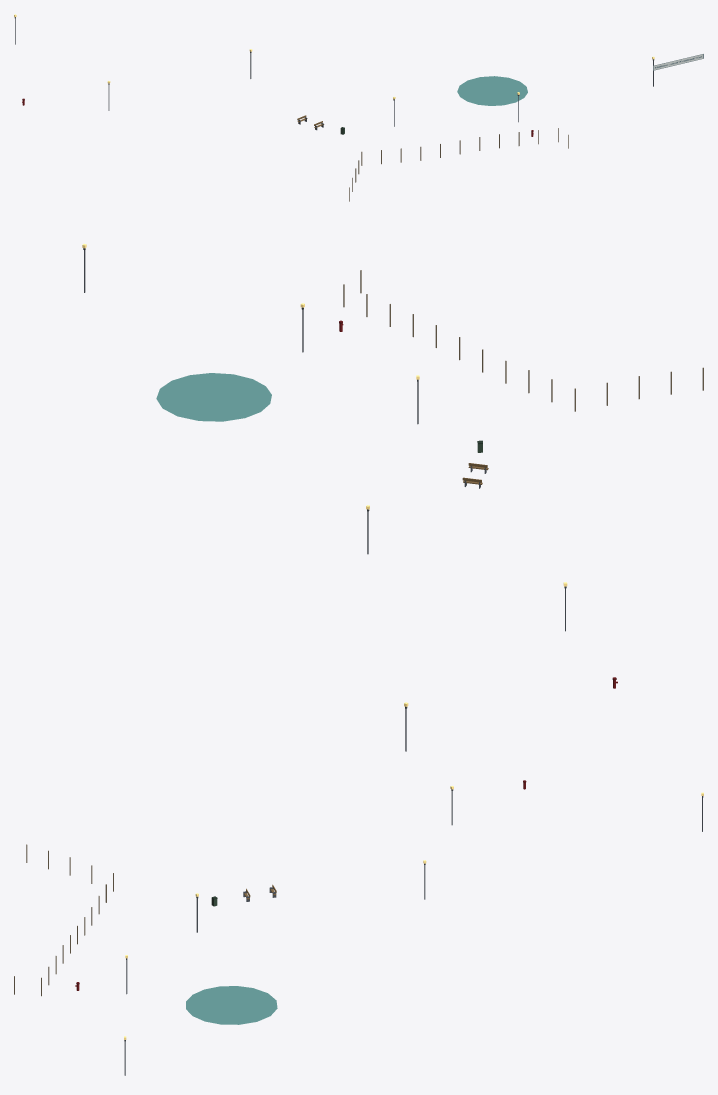
The model's file is cell-270_-45.glb.
3 views of the same model, one above another, from view 1: azimuth 30°, elevation 25°; view 2: azimuth 150°, elevation 25°; view 3: azimuth 270°, elevation 25° (orthographic). The views are drawn at different scales.
Parts seen in each view (by area): view 1: cell-270_-45 (×2); view 2: cell-270_-45 (×2); view 3: cell-270_-45 (×2).
Part boxes in pixels (bbox=[...]): cell-270_-45 (×2): bbox=[14, 17, 654, 201]; cell-270_-45 (×2): bbox=[83, 248, 703, 751]; cell-270_-45 (×2): bbox=[14, 780, 703, 1075].
Size of the model in its own units: 43.46 by 3.71 by 37.73.
4 materials, 1 textured.
